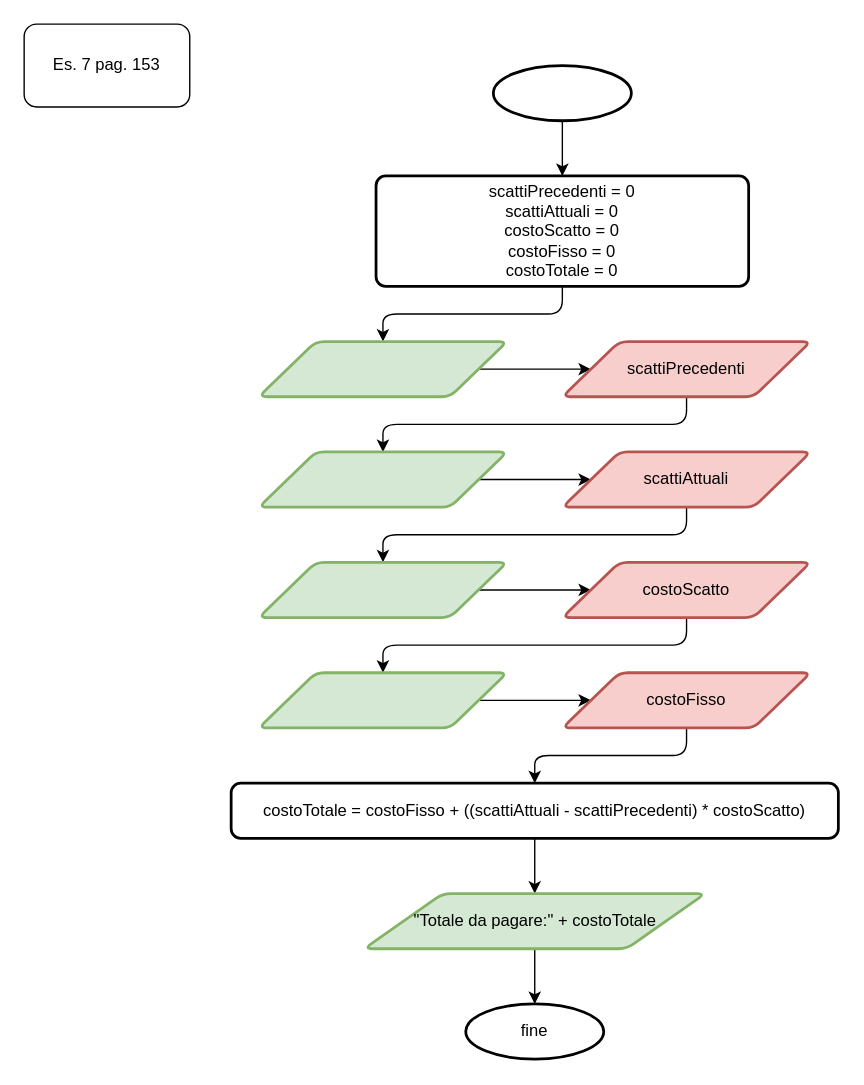
The diagram is 864 pixels wide and 1085 high, and some of its shapes have lost their labels. The shapes that lost their labels are listed below. From the top down, each one's centre as x and y in pixels, then its label:
(x=561, y=92): inizio
(x=382, y=368): "Scatti precedenti: "
(x=382, y=479): "Scatti Attuali: "
(x=382, y=589): "Costo dello Scatto"
(x=382, y=700): "Costo del Canone"
